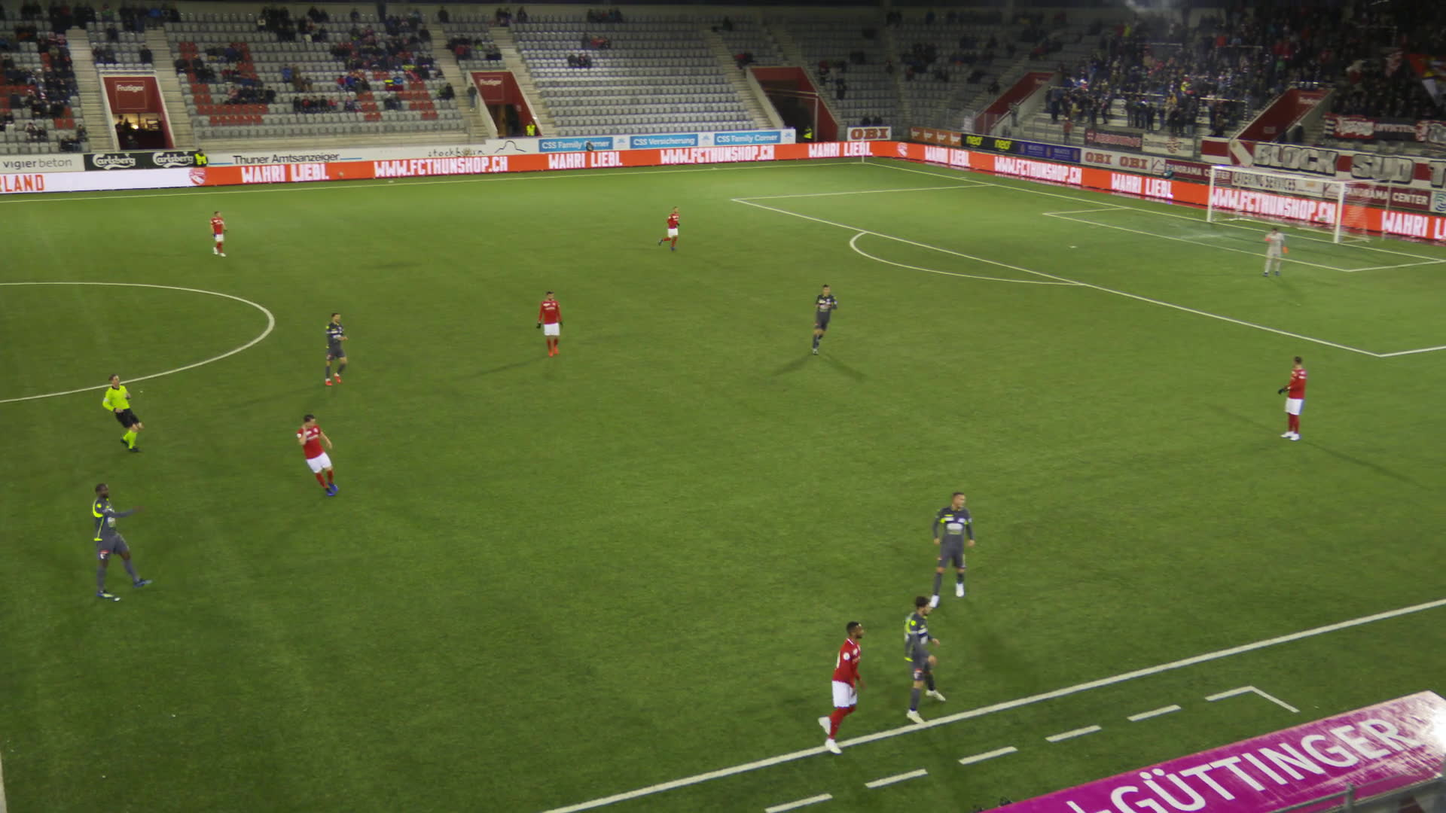player: (805, 622, 868, 754), (87, 480, 141, 601), (931, 489, 982, 607), (907, 590, 947, 726), (298, 413, 341, 497), (1279, 355, 1313, 440), (812, 282, 841, 355), (325, 312, 352, 387), (538, 291, 565, 357), (1261, 225, 1292, 276), (659, 203, 683, 251), (211, 210, 231, 256)
referee: (100, 371, 148, 453)
